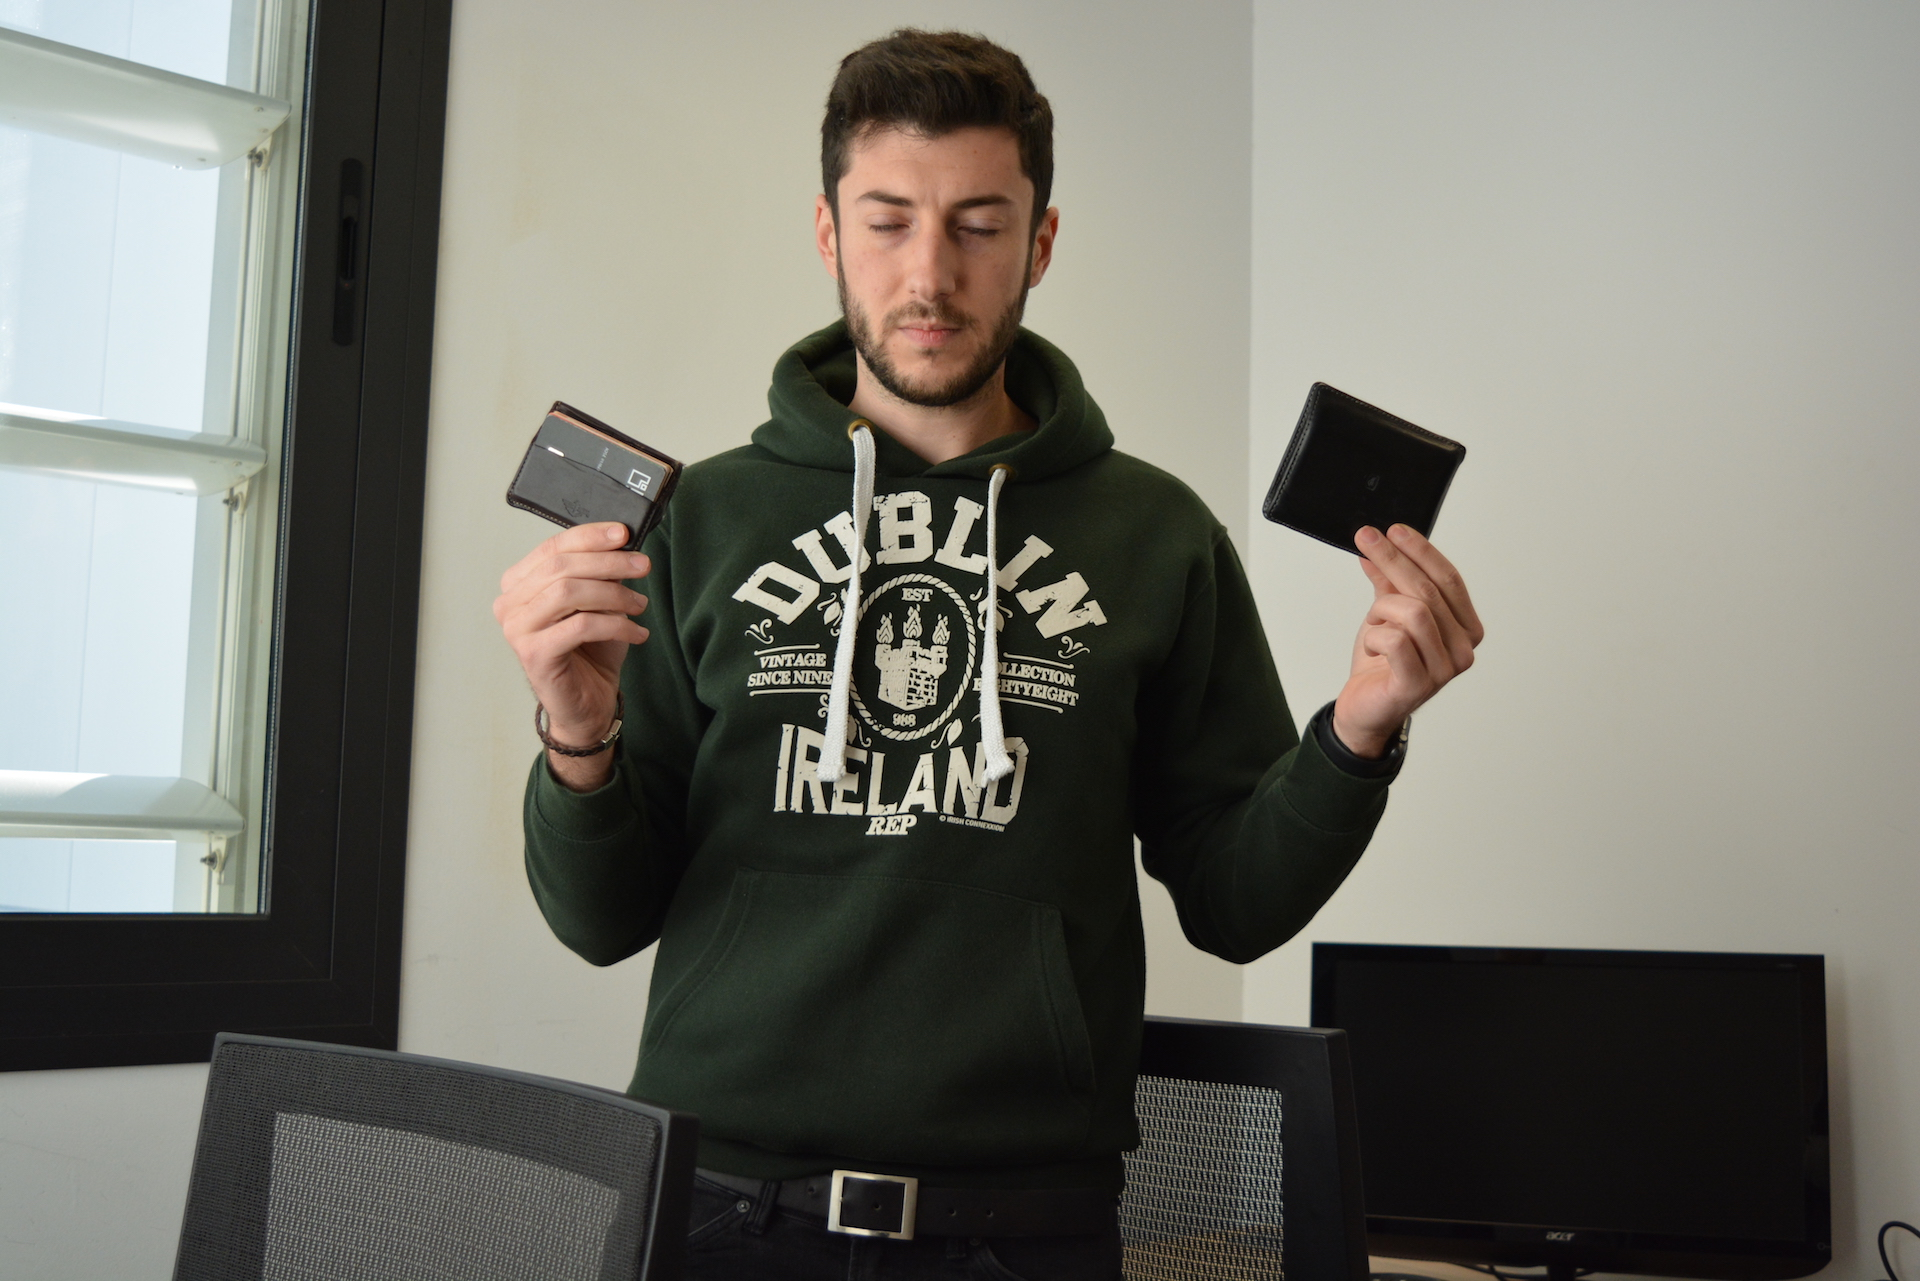monedero: (1260, 380, 1470, 562), (503, 397, 688, 555)
